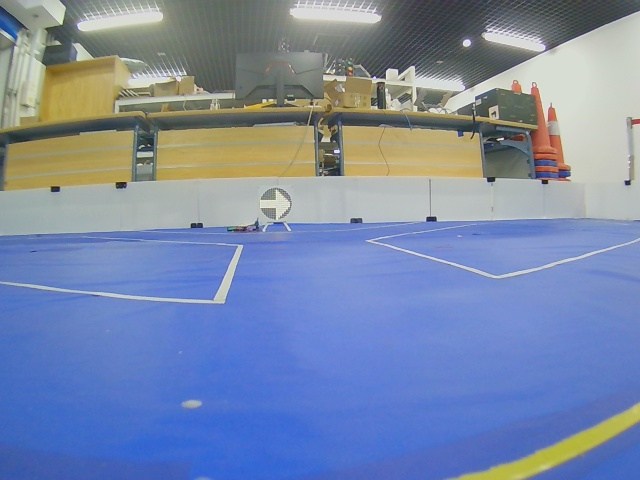right_yellow: (260, 187, 292, 221)
